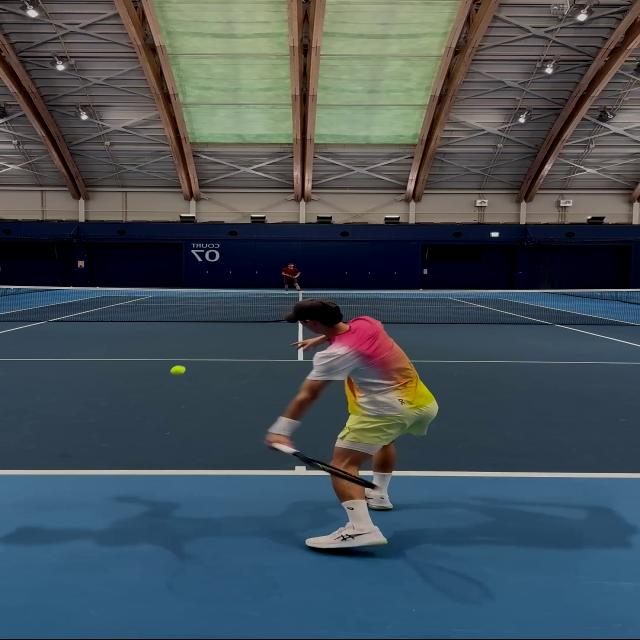tennis_ball: (172, 367, 184, 373)
